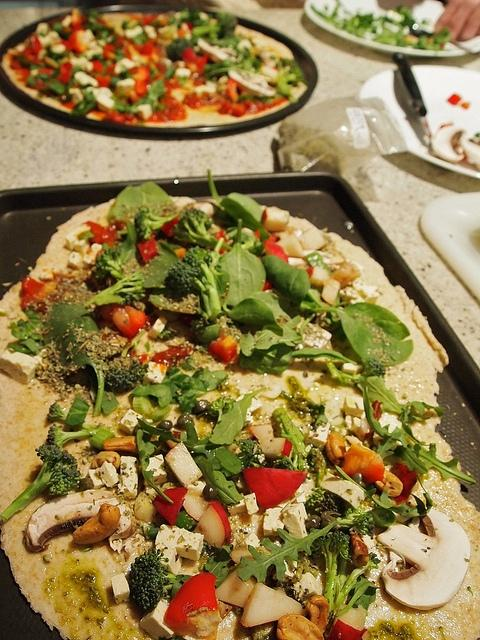broccoli: (308, 530, 381, 618), (3, 446, 81, 524), (162, 246, 222, 322), (128, 548, 176, 612), (46, 402, 106, 452), (170, 203, 232, 251), (83, 270, 147, 308), (272, 408, 308, 472), (134, 204, 180, 240), (106, 356, 148, 392), (192, 11, 239, 38), (96, 242, 126, 282), (338, 512, 376, 540), (310, 492, 346, 518), (236, 438, 266, 468), (208, 396, 236, 424), (360, 357, 386, 378), (167, 38, 188, 62), (11, 320, 35, 338), (308, 487, 326, 508)
mushroom: (376, 508, 470, 610), (21, 489, 120, 552), (239, 582, 308, 628), (165, 442, 202, 488), (320, 472, 364, 509), (430, 124, 468, 164), (227, 70, 277, 96), (197, 36, 237, 62), (86, 86, 115, 112)
tomato: (163, 572, 218, 636), (242, 468, 308, 510), (99, 304, 146, 340), (392, 461, 416, 505), (81, 220, 118, 248), (210, 336, 236, 364), (138, 232, 160, 264), (153, 346, 188, 366), (184, 48, 206, 72), (264, 243, 288, 263), (21, 276, 44, 296), (161, 216, 180, 238), (70, 30, 88, 53), (56, 62, 72, 85), (134, 40, 154, 56), (30, 34, 42, 59), (133, 67, 149, 82), (77, 14, 86, 30), (215, 228, 226, 240), (263, 279, 273, 291)
